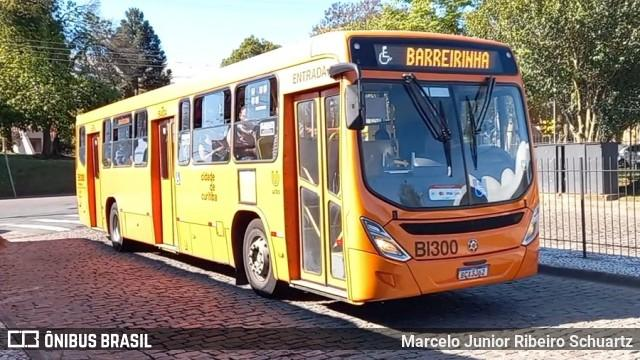BARREIRINHA: (402, 44, 493, 72)
